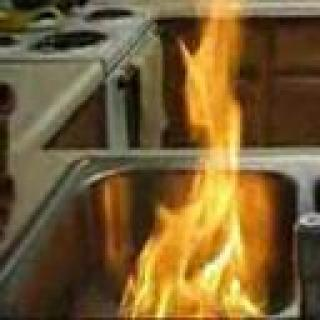fire: (128, 0, 266, 320)
